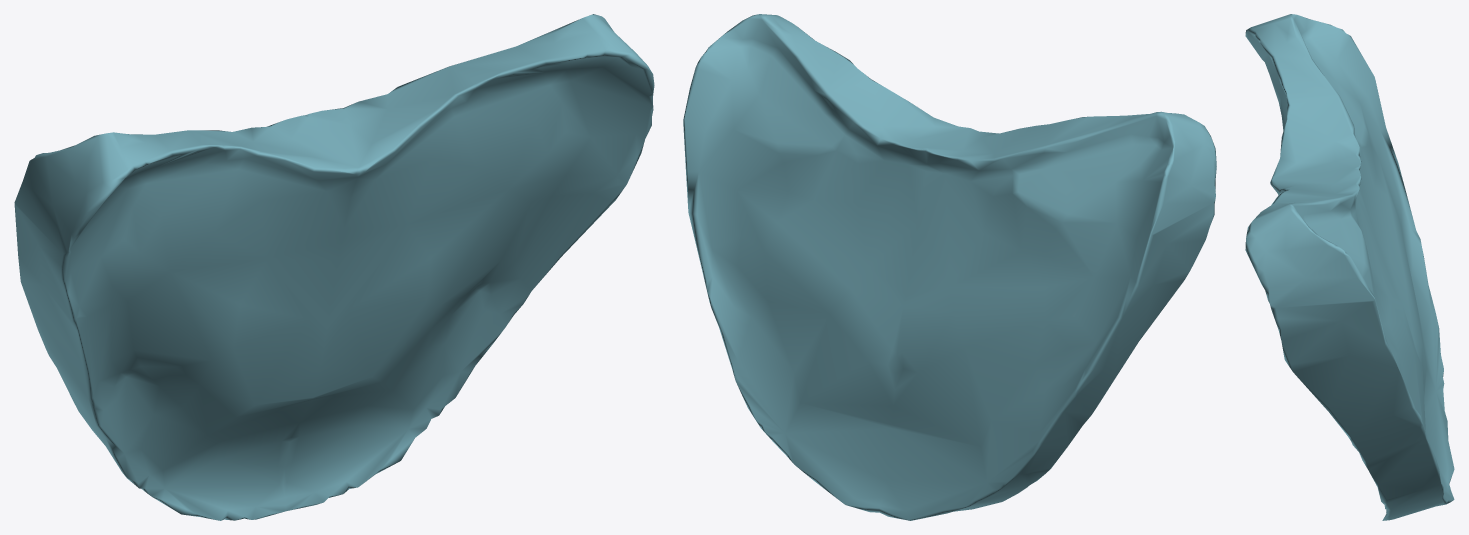
3 views of the same model, side by side, from view 1: azimuth 30°, elevation 25°; view 2: azimuth 150°, elevation 25°; view 3: azimuth 270°, elevation 25° (orthographic). The views are drawn at different scales.
Visible parts, largest first — view 1: 胸3—胸4椎间盘; view 2: 胸3—胸4椎间盘; view 3: 胸3—胸4椎间盘.
Boxes of the visible parts, bbox=[...] form: 胸3—胸4椎间盘: bbox=[14, 14, 654, 520]; 胸3—胸4椎间盘: bbox=[683, 14, 1216, 520]; 胸3—胸4椎间盘: bbox=[1245, 14, 1454, 520].
Bounding box in the file's own units: 0.049 × 0.0385 × 0.0187.
